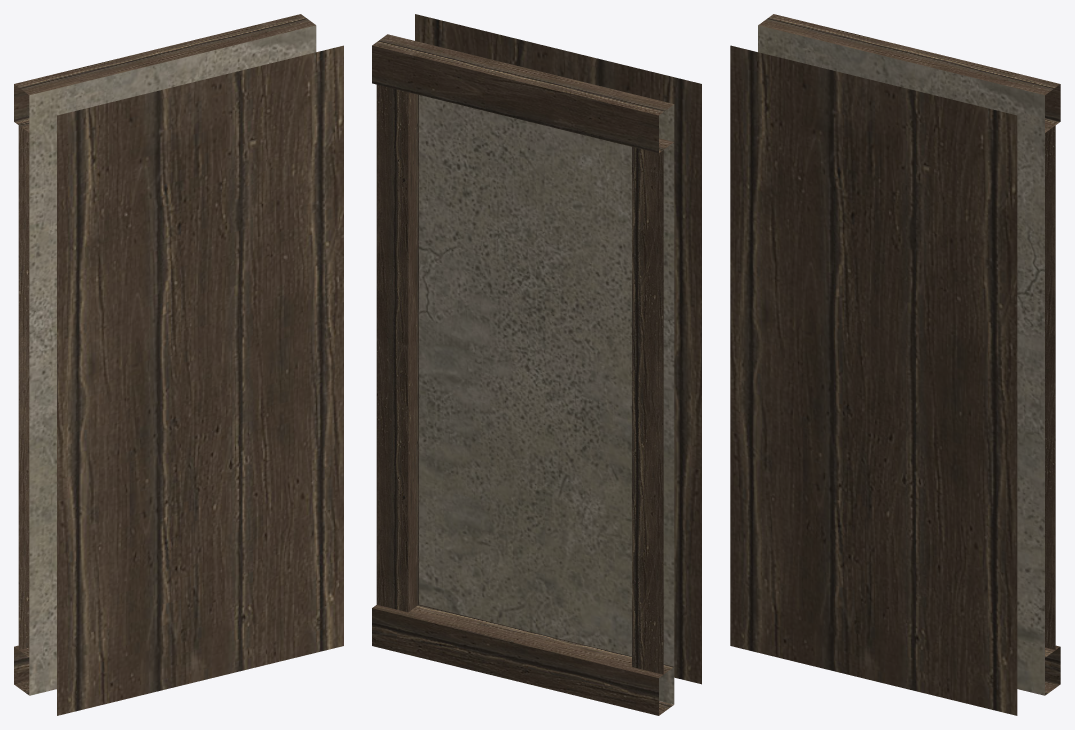
Rendered from ARC1010309.fbx.
The picture shows the model from 3 angles, left to right: view 1: azimuth 30°, elevation 25°; view 2: azimuth 150°, elevation 25°; view 3: azimuth 330°, elevation 25°; orthographic projection.
Visible parts, largest first — view 1: smARC1010309; view 2: smARC1010309; view 3: smARC1010309.
Boxes of the visible parts, bbox=[...] form: smARC1010309: bbox=[14, 14, 343, 715]; smARC1010309: bbox=[372, 14, 701, 715]; smARC1010309: bbox=[730, 14, 1060, 715].
Size of the model in its own units: 134 by 268 by 34.9.
1 material, 1 textured.
